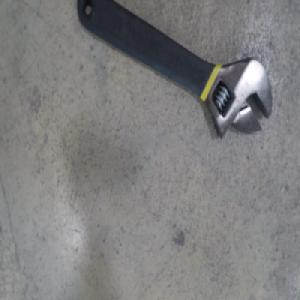AdjustableWrench: (77, 0, 274, 138)
